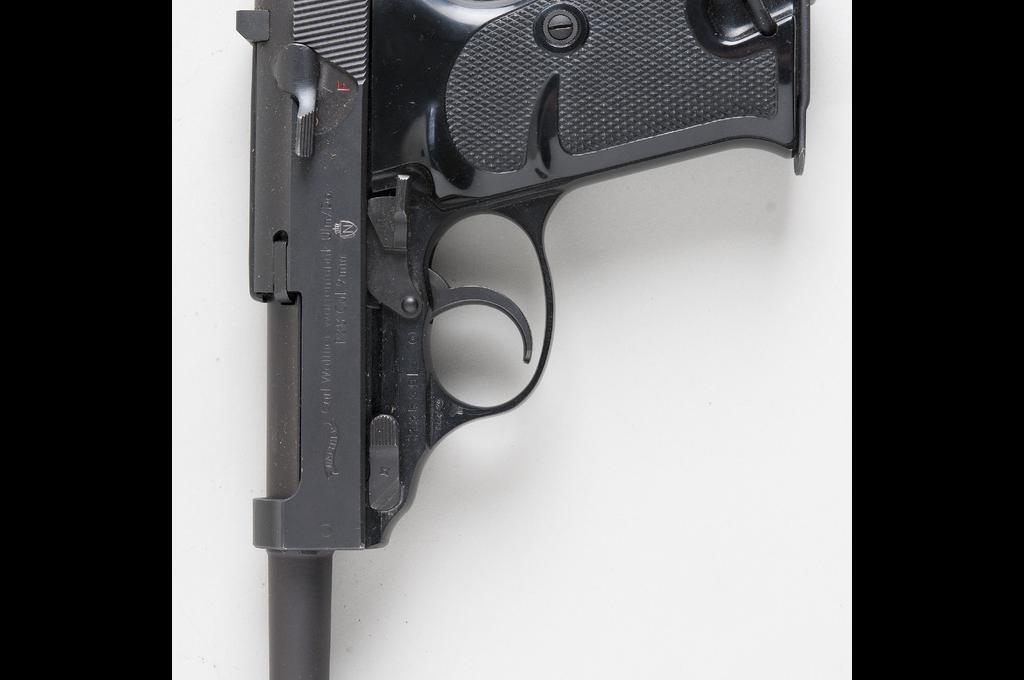gun: (228, 0, 818, 680)
